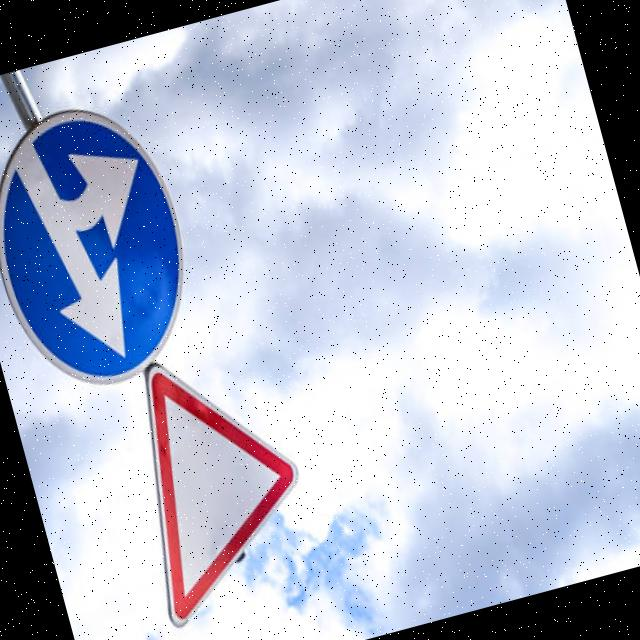give_way: (96, 329, 343, 640)
